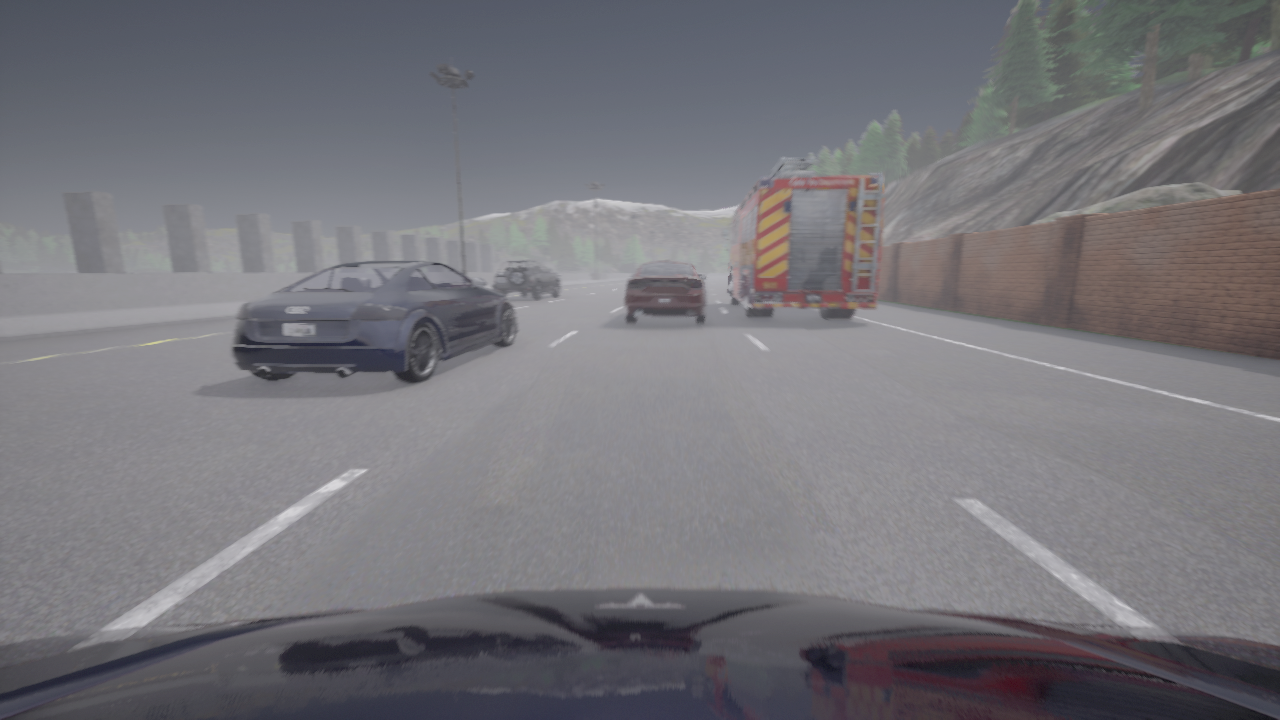cyclist: (0, 588, 1279, 719), (229, 260, 516, 383), (721, 157, 883, 318), (625, 261, 706, 323), (492, 259, 560, 299)
